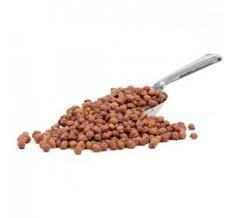Organic: (27, 38, 232, 166)
